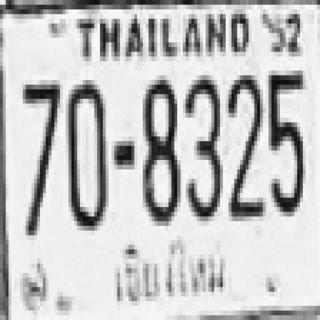N00: (68, 79, 108, 229)
N02: (228, 73, 262, 219)
N03: (183, 75, 223, 220)
N05: (267, 69, 304, 215)
N07: (22, 80, 59, 235)
N08: (143, 78, 180, 224)
P11: (111, 242, 234, 300)
